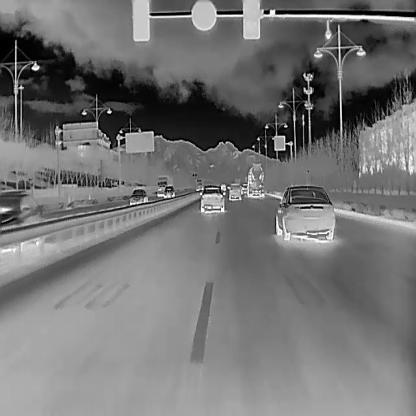car: (274, 184, 335, 241), (0, 189, 41, 229), (198, 184, 226, 213), (246, 162, 265, 198), (155, 175, 175, 196), (128, 188, 148, 204), (228, 182, 241, 200), (163, 186, 175, 198), (194, 177, 204, 191), (240, 182, 248, 194), (219, 182, 227, 190)
